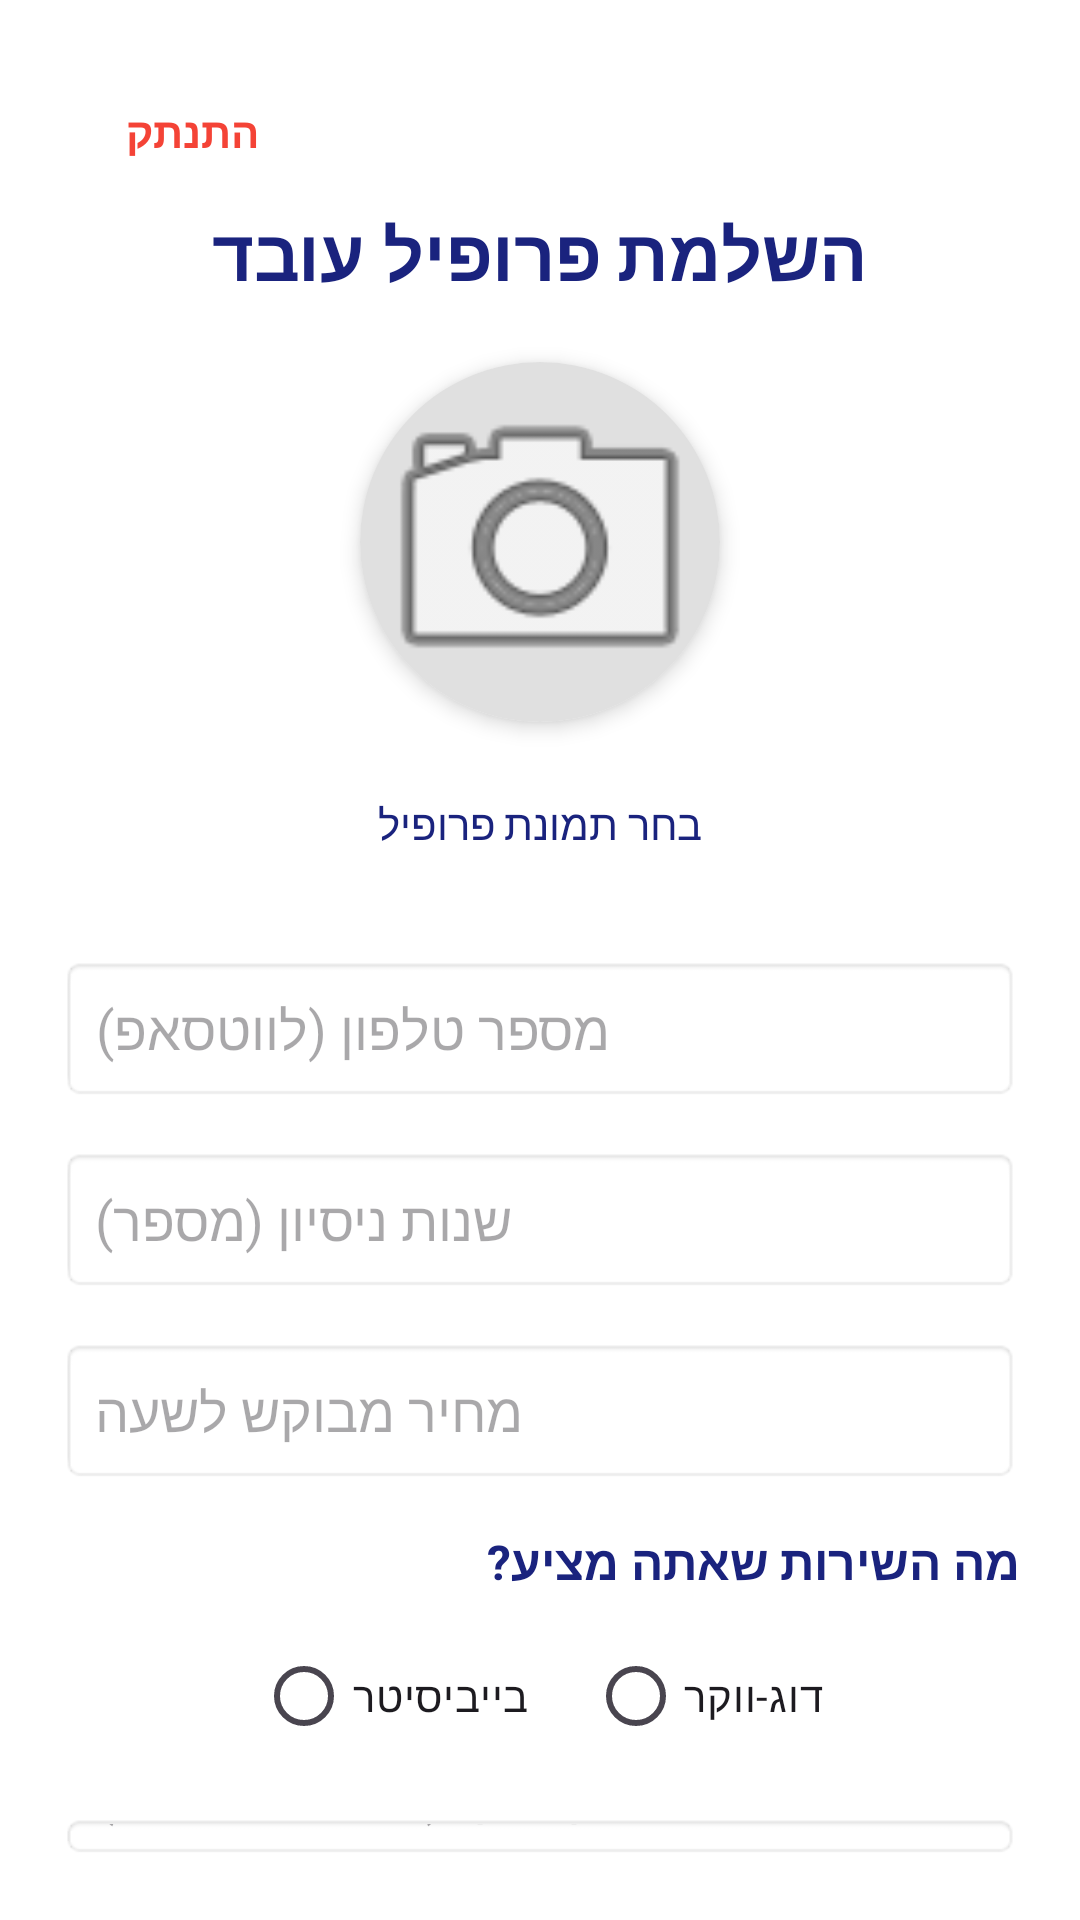

Icons on this 1080x1920 Android screen, each with the point to tap as [x,y]:
camera: [540,542]
